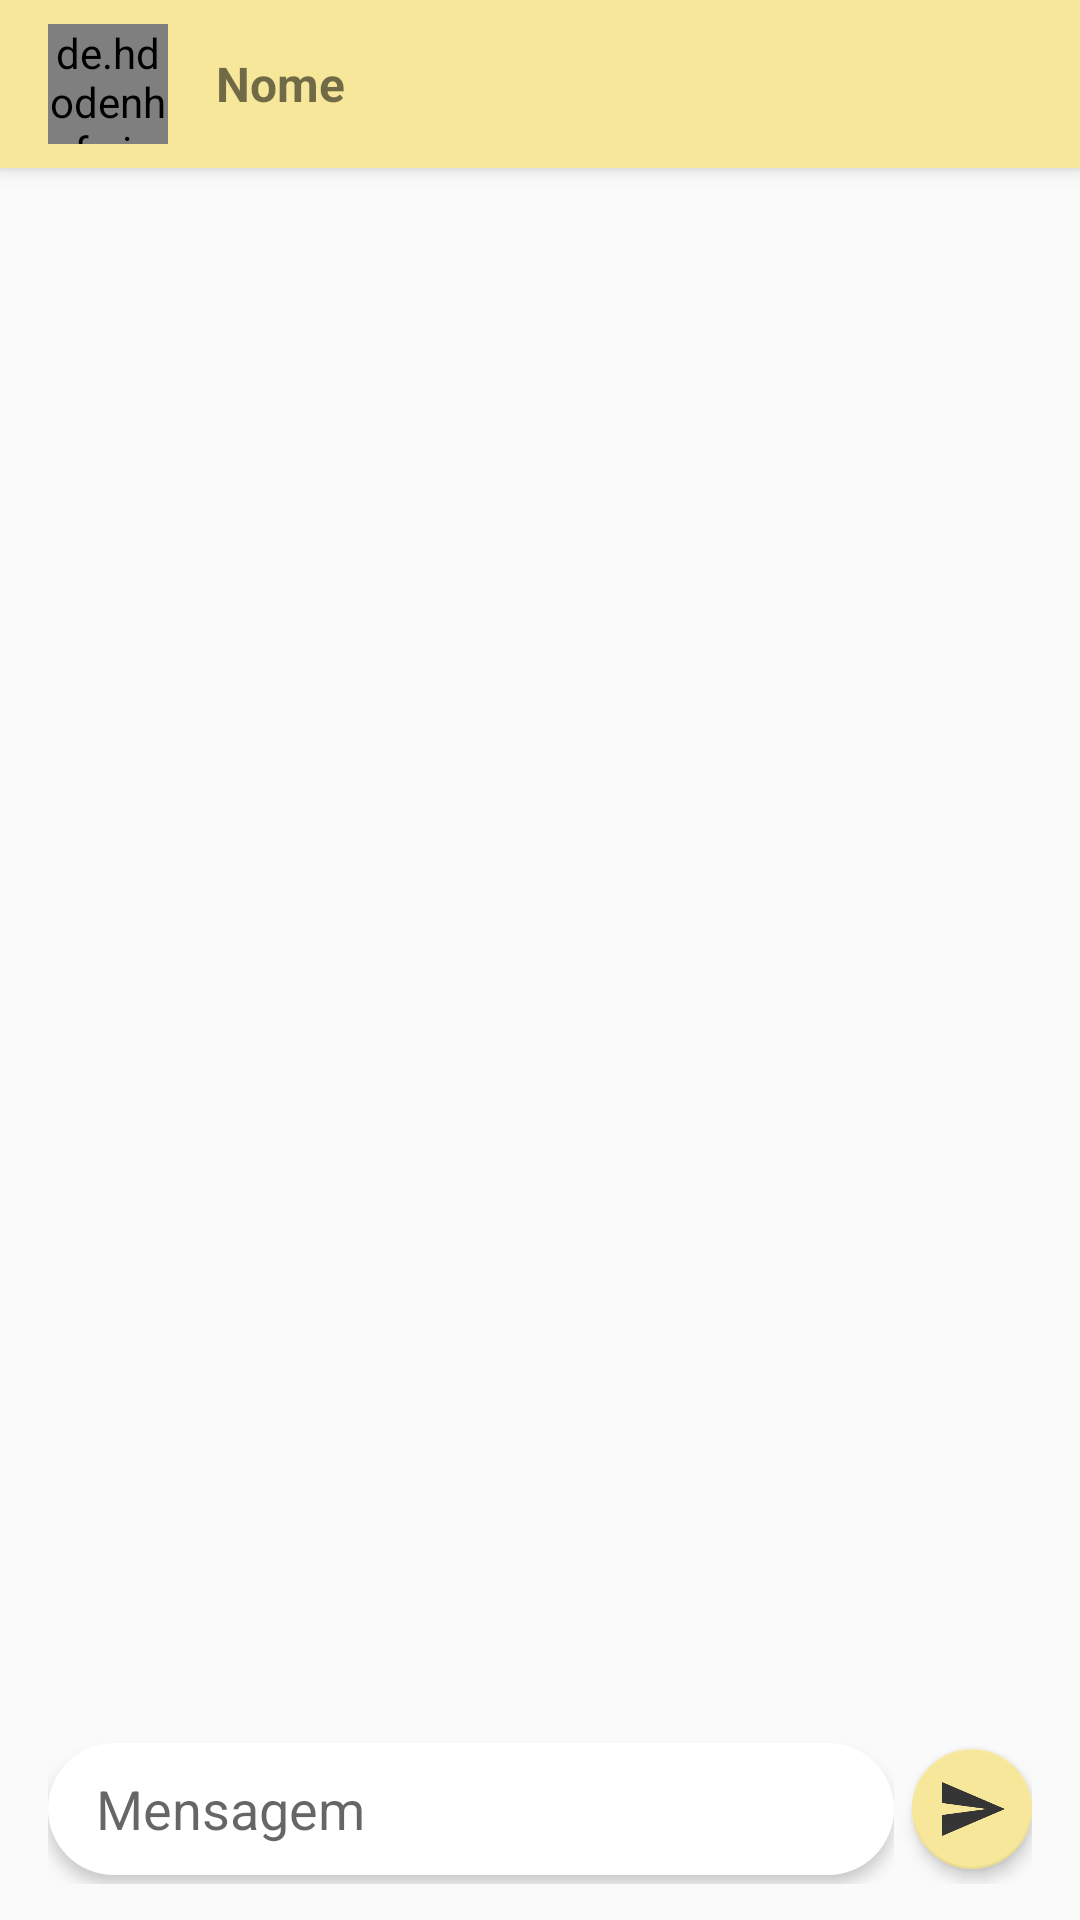

Named icons in this screenshot (1080px x 1920px) and their centers, [x,y]:
send: [972,1809]
